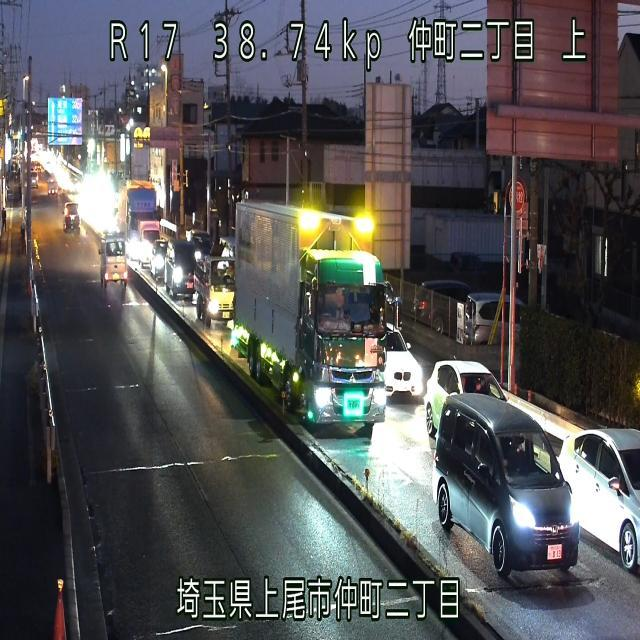16-Wheelers: (231, 199, 400, 432)
Car: (556, 426, 639, 573)
MiniBus: (430, 391, 580, 577)
Motorcycle: (62, 201, 79, 232)
Traffic-sign: (46, 96, 83, 145)
